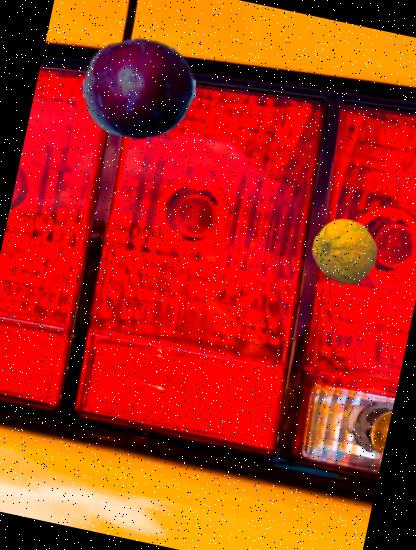Cantaloupe: (306, 212, 385, 291)
Plum: (71, 22, 206, 156)
